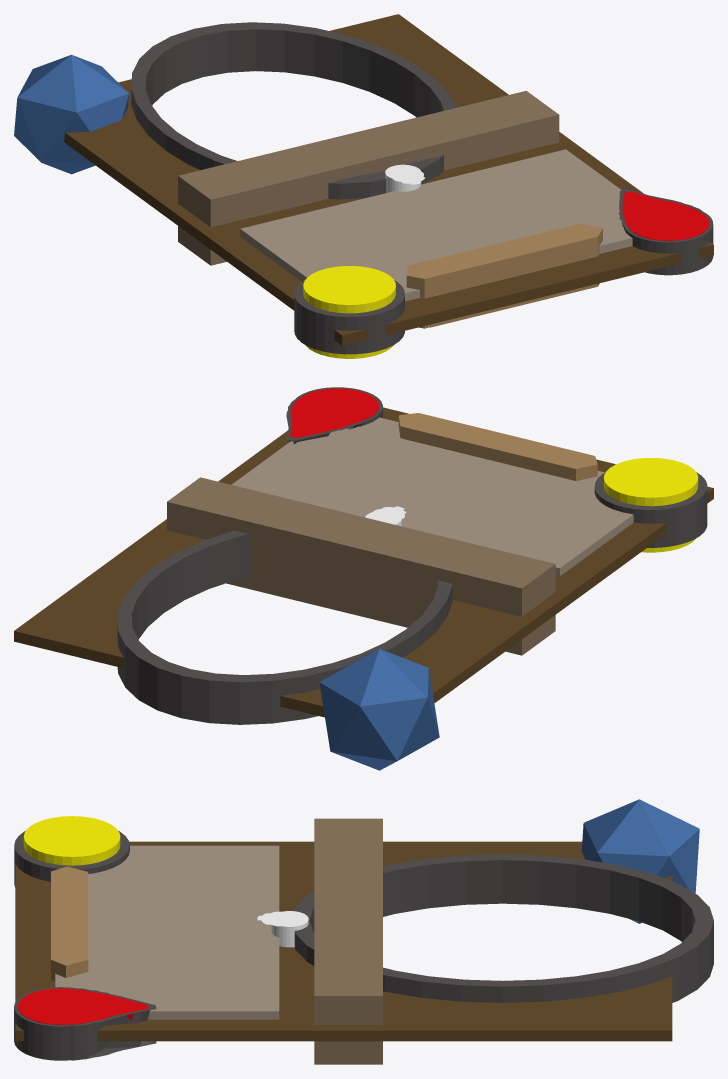
Rendered from minion.glb.
The picture shows the model from 3 angles, top to bottom: view 1: azimuth 30°, elevation 25°; view 2: azimuth 150°, elevation 25°; view 3: azimuth 270°, elevation 25°; orthographic projection. The views are drawn at different scales.
Visible parts, largest first — view 1: Card, Text, Name, Frame.002, Crystal, Tribe, Frame.001, Attack, Health, Frame, Rarity; view 2: Name, Text, Card, Frame.002, Crystal, Tribe, Attack, Frame.001, Health, Frame; view 3: Card, Text, Frame.002, Name, Crystal, Frame, Tribe, Attack, Health, Frame.001, Rarity.
Boxes of the visible parts, x1=… form: Card: x1=64, y1=14, x2=713, y2=345; Text: x1=240, y1=149, x2=632, y2=301; Name: x1=178, y1=90, x2=559, y2=265; Frame.002: x1=131, y1=22, x2=456, y2=199; Crystal: x1=14, y1=54, x2=128, y2=174; Tribe: x1=406, y1=223, x2=602, y2=328; Frame.001: x1=294, y1=280, x2=404, y2=354; Attack: x1=303, y1=266, x2=395, y2=358; Health: x1=622, y1=191, x2=709, y2=240; Frame: x1=618, y1=188, x2=713, y2=275; Rarity: x1=385, y1=164, x2=424, y2=192; Name: x1=167, y1=477, x2=555, y2=655; Text: x1=231, y1=417, x2=633, y2=576; Card: x1=14, y1=407, x2=713, y2=717; Frame.002: x1=117, y1=530, x2=452, y2=724; Crystal: x1=319, y1=649, x2=439, y2=770; Tribe: x1=398, y1=413, x2=597, y2=480; Attack: x1=604, y1=458, x2=698, y2=552; Frame.001: x1=594, y1=472, x2=707, y2=547; Health: x1=290, y1=388, x2=378, y2=437; Frame: x1=285, y1=387, x2=382, y2=444; Card: x1=15, y1=841, x2=672, y2=1041; Text: x1=55, y1=845, x2=279, y2=1019; Frame.002: x1=294, y1=854, x2=713, y2=1002; Name: x1=314, y1=818, x2=382, y2=1064; Crystal: x1=581, y1=799, x2=699, y2=923; Frame: x1=14, y1=987, x2=156, y2=1060; Tribe: x1=51, y1=866, x2=88, y2=981; Attack: x1=23, y1=816, x2=120, y2=865; Health: x1=18, y1=988, x2=148, y2=1041; Frame.001: x1=14, y1=831, x2=129, y2=887; Rarity: x1=257, y1=911, x2=308, y2=947.
Bounding box in the file's own units: 3.36 × 0.9404 × 4.78.
